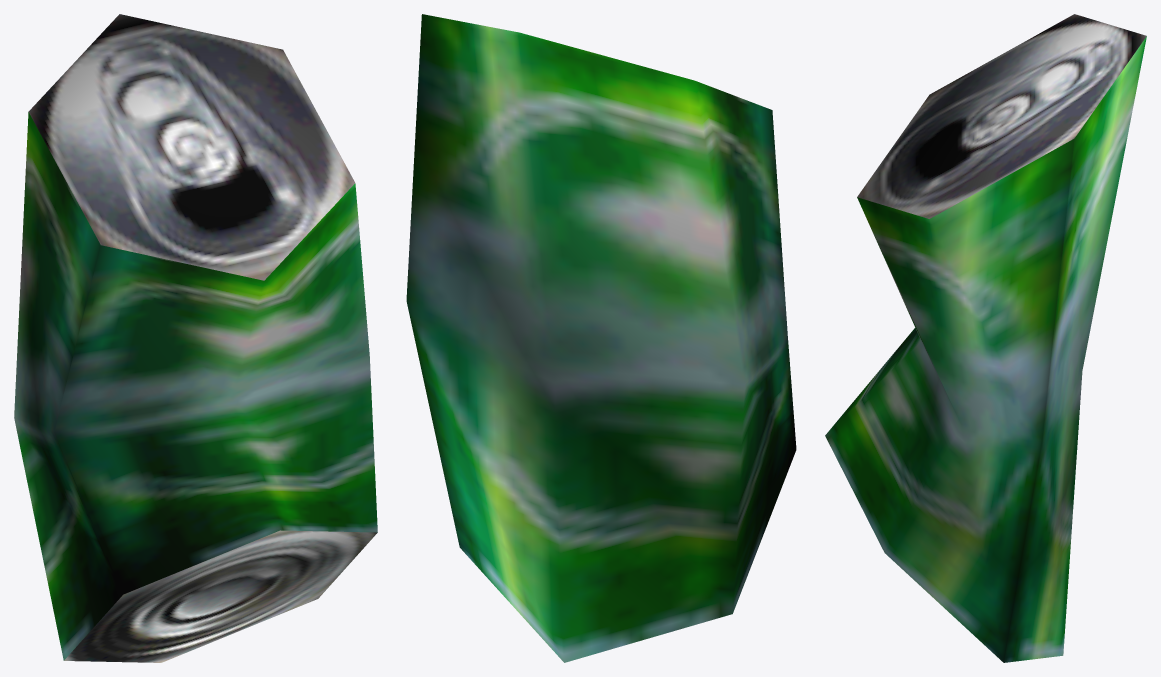
The model's file is can_4_crushed.glb.
3 renders of one model, left to right at view 1: azimuth 30°, elevation 25°; view 2: azimuth 150°, elevation 25°; view 3: azimuth 270°, elevation 25°, orthographic. The views are drawn at different scales.
Parts seen in each view (by area): view 1: Can_4_Crushed; view 2: Can_4_Crushed; view 3: Can_4_Crushed.
Part boxes in pixels (x1,y1,x2,y2): Can_4_Crushed: [14, 14, 377, 662]; Can_4_Crushed: [406, 14, 796, 662]; Can_4_Crushed: [825, 14, 1146, 662].
Bounding box in the file's own units: 0.2424 × 0.4541 × 0.2138.
Materials: 1 (1 with a texture image).
